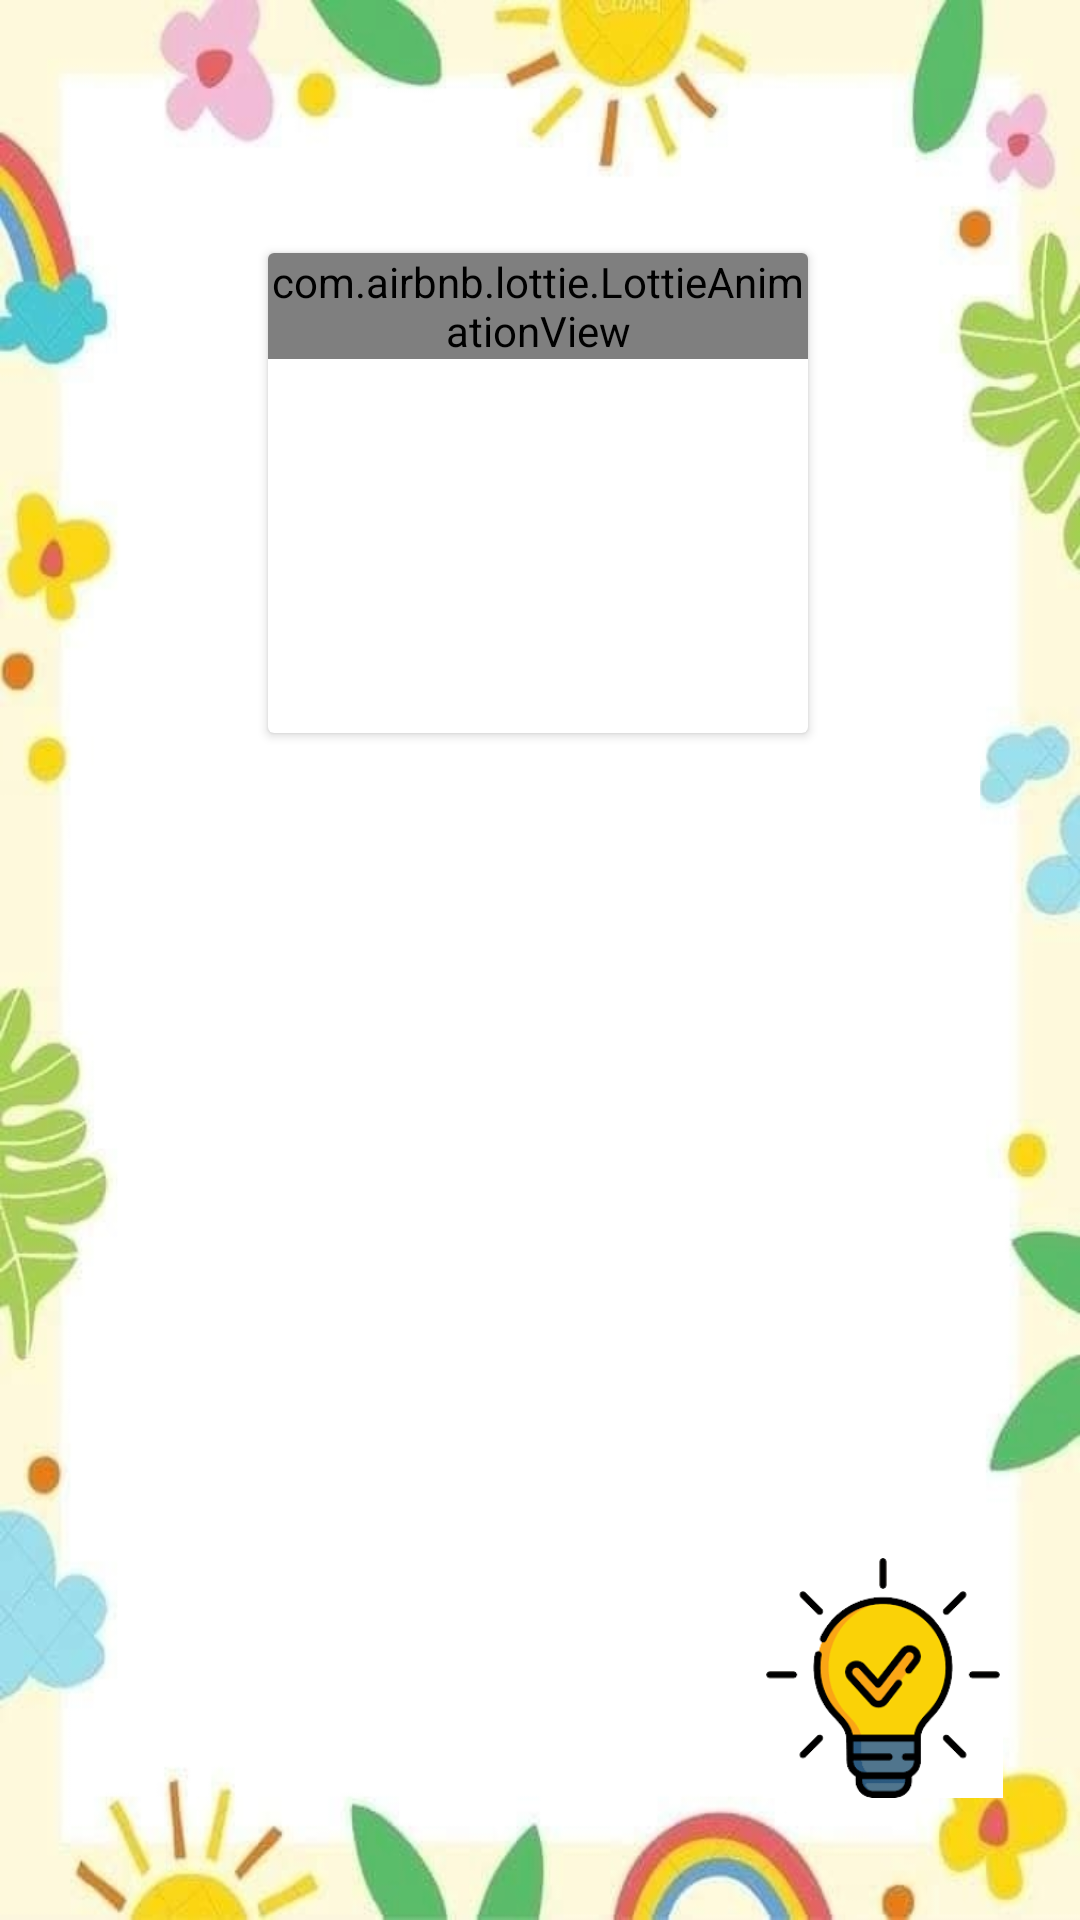

Icons on this 1080*1920 Android screen, each with its box as bbox=[x1, y1, x2, y2]:
hint: bbox=[766, 1558, 1000, 1798]
